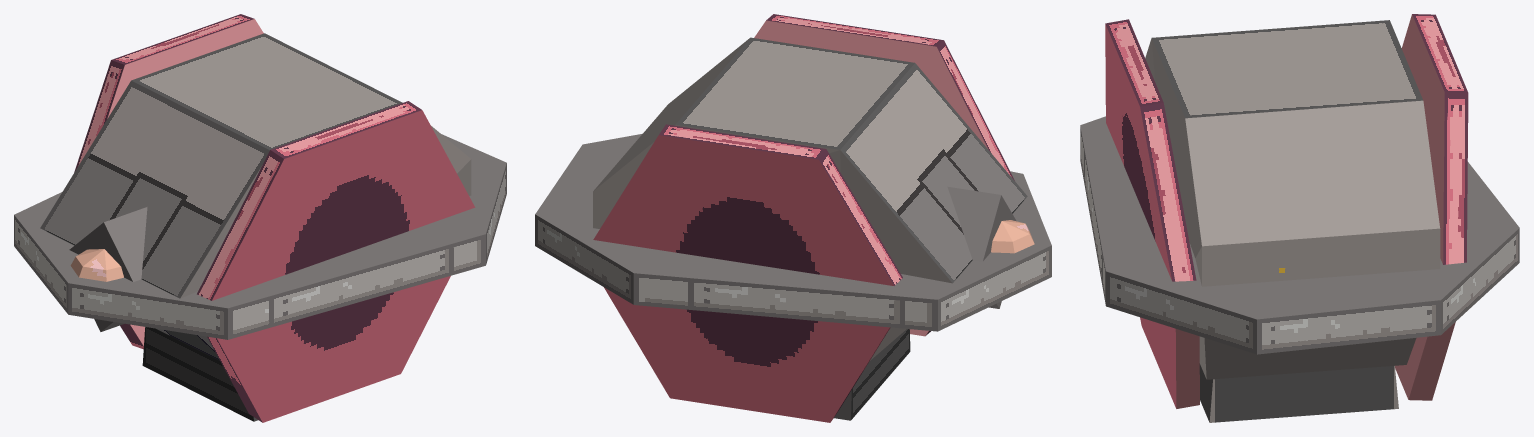
Rendered from LightTorso.gltf.
3 renders of one model, left to right at view 1: azimuth 30°, elevation 25°; view 2: azimuth 150°, elevation 25°; view 3: azimuth 270°, elevation 25°, orthographic. The views are drawn at different scales.
Parts seen in each view (by area): view 1: Armor2, Torso, MidPart, Armor1, LowerTorso, cube, core; view 2: Armor1, Torso, MidPart, Armor2, cube, LowerTorso, core; view 3: Torso, MidPart, Armor2, Armor1, LowerTorso.
Boxes of the visible parts, bbox=[...] form: Armor2: bbox=[197, 101, 475, 422]; Torso: bbox=[40, 33, 471, 360]; MidPart: bbox=[14, 134, 506, 339]; Armor1: bbox=[74, 14, 263, 349]; LowerTorso: bbox=[142, 327, 258, 421]; cube: bbox=[69, 207, 147, 331]; core: bbox=[70, 249, 123, 281]; Armor1: bbox=[593, 124, 902, 422]; Torso: bbox=[593, 37, 1027, 360]; MidPart: bbox=[535, 133, 1051, 331]; Armor2: bbox=[754, 14, 1014, 336]; cube: bbox=[947, 186, 1016, 308]; LowerTorso: bbox=[834, 329, 910, 420]; core: bbox=[991, 220, 1034, 253]; Torso: bbox=[1145, 20, 1440, 379]; MidPart: bbox=[1080, 116, 1519, 354]; Armor2: bbox=[1105, 19, 1199, 408]; Armor1: bbox=[1395, 14, 1468, 400]; LowerTorso: bbox=[1199, 363, 1398, 422].
Size of the model in its own units: 0.7496 by 0.4569 by 0.5678.
1 material, 1 textured.
